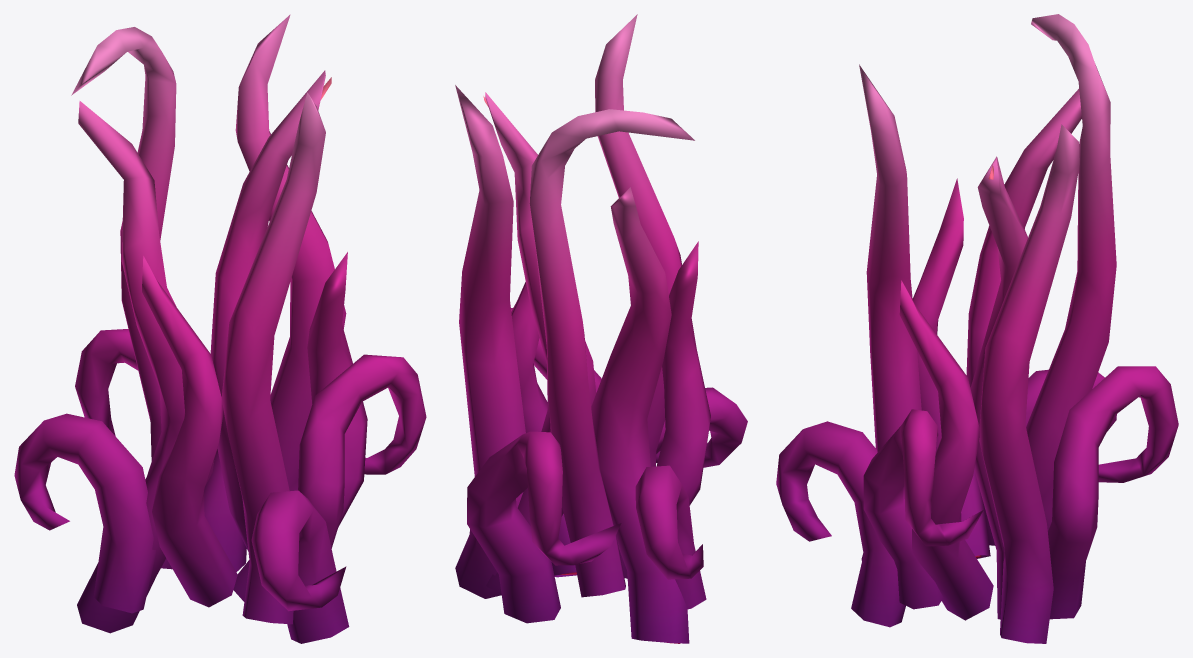
The model's file is Capsule_contents_009.fbx.
3 renders of one model, left to right at view 1: azimuth 30°, elevation 25°; view 2: azimuth 150°, elevation 25°; view 3: azimuth 270°, elevation 25°, orthographic. The views are drawn at different scales.
Visible parts, largest first — view 1: Сapsule_contents_009; view 2: Сapsule_contents_009; view 3: Сapsule_contents_009.
Boxes of the visible parts, left/top/right/bottom form: Сapsule_contents_009: left=14, top=14, right=426, bottom=643; Сapsule_contents_009: left=455, top=14, right=747, bottom=643; Сapsule_contents_009: left=776, top=14, right=1178, bottom=643.
Bounding box in the file's own units: 67.45 × 76.27 × 117.
